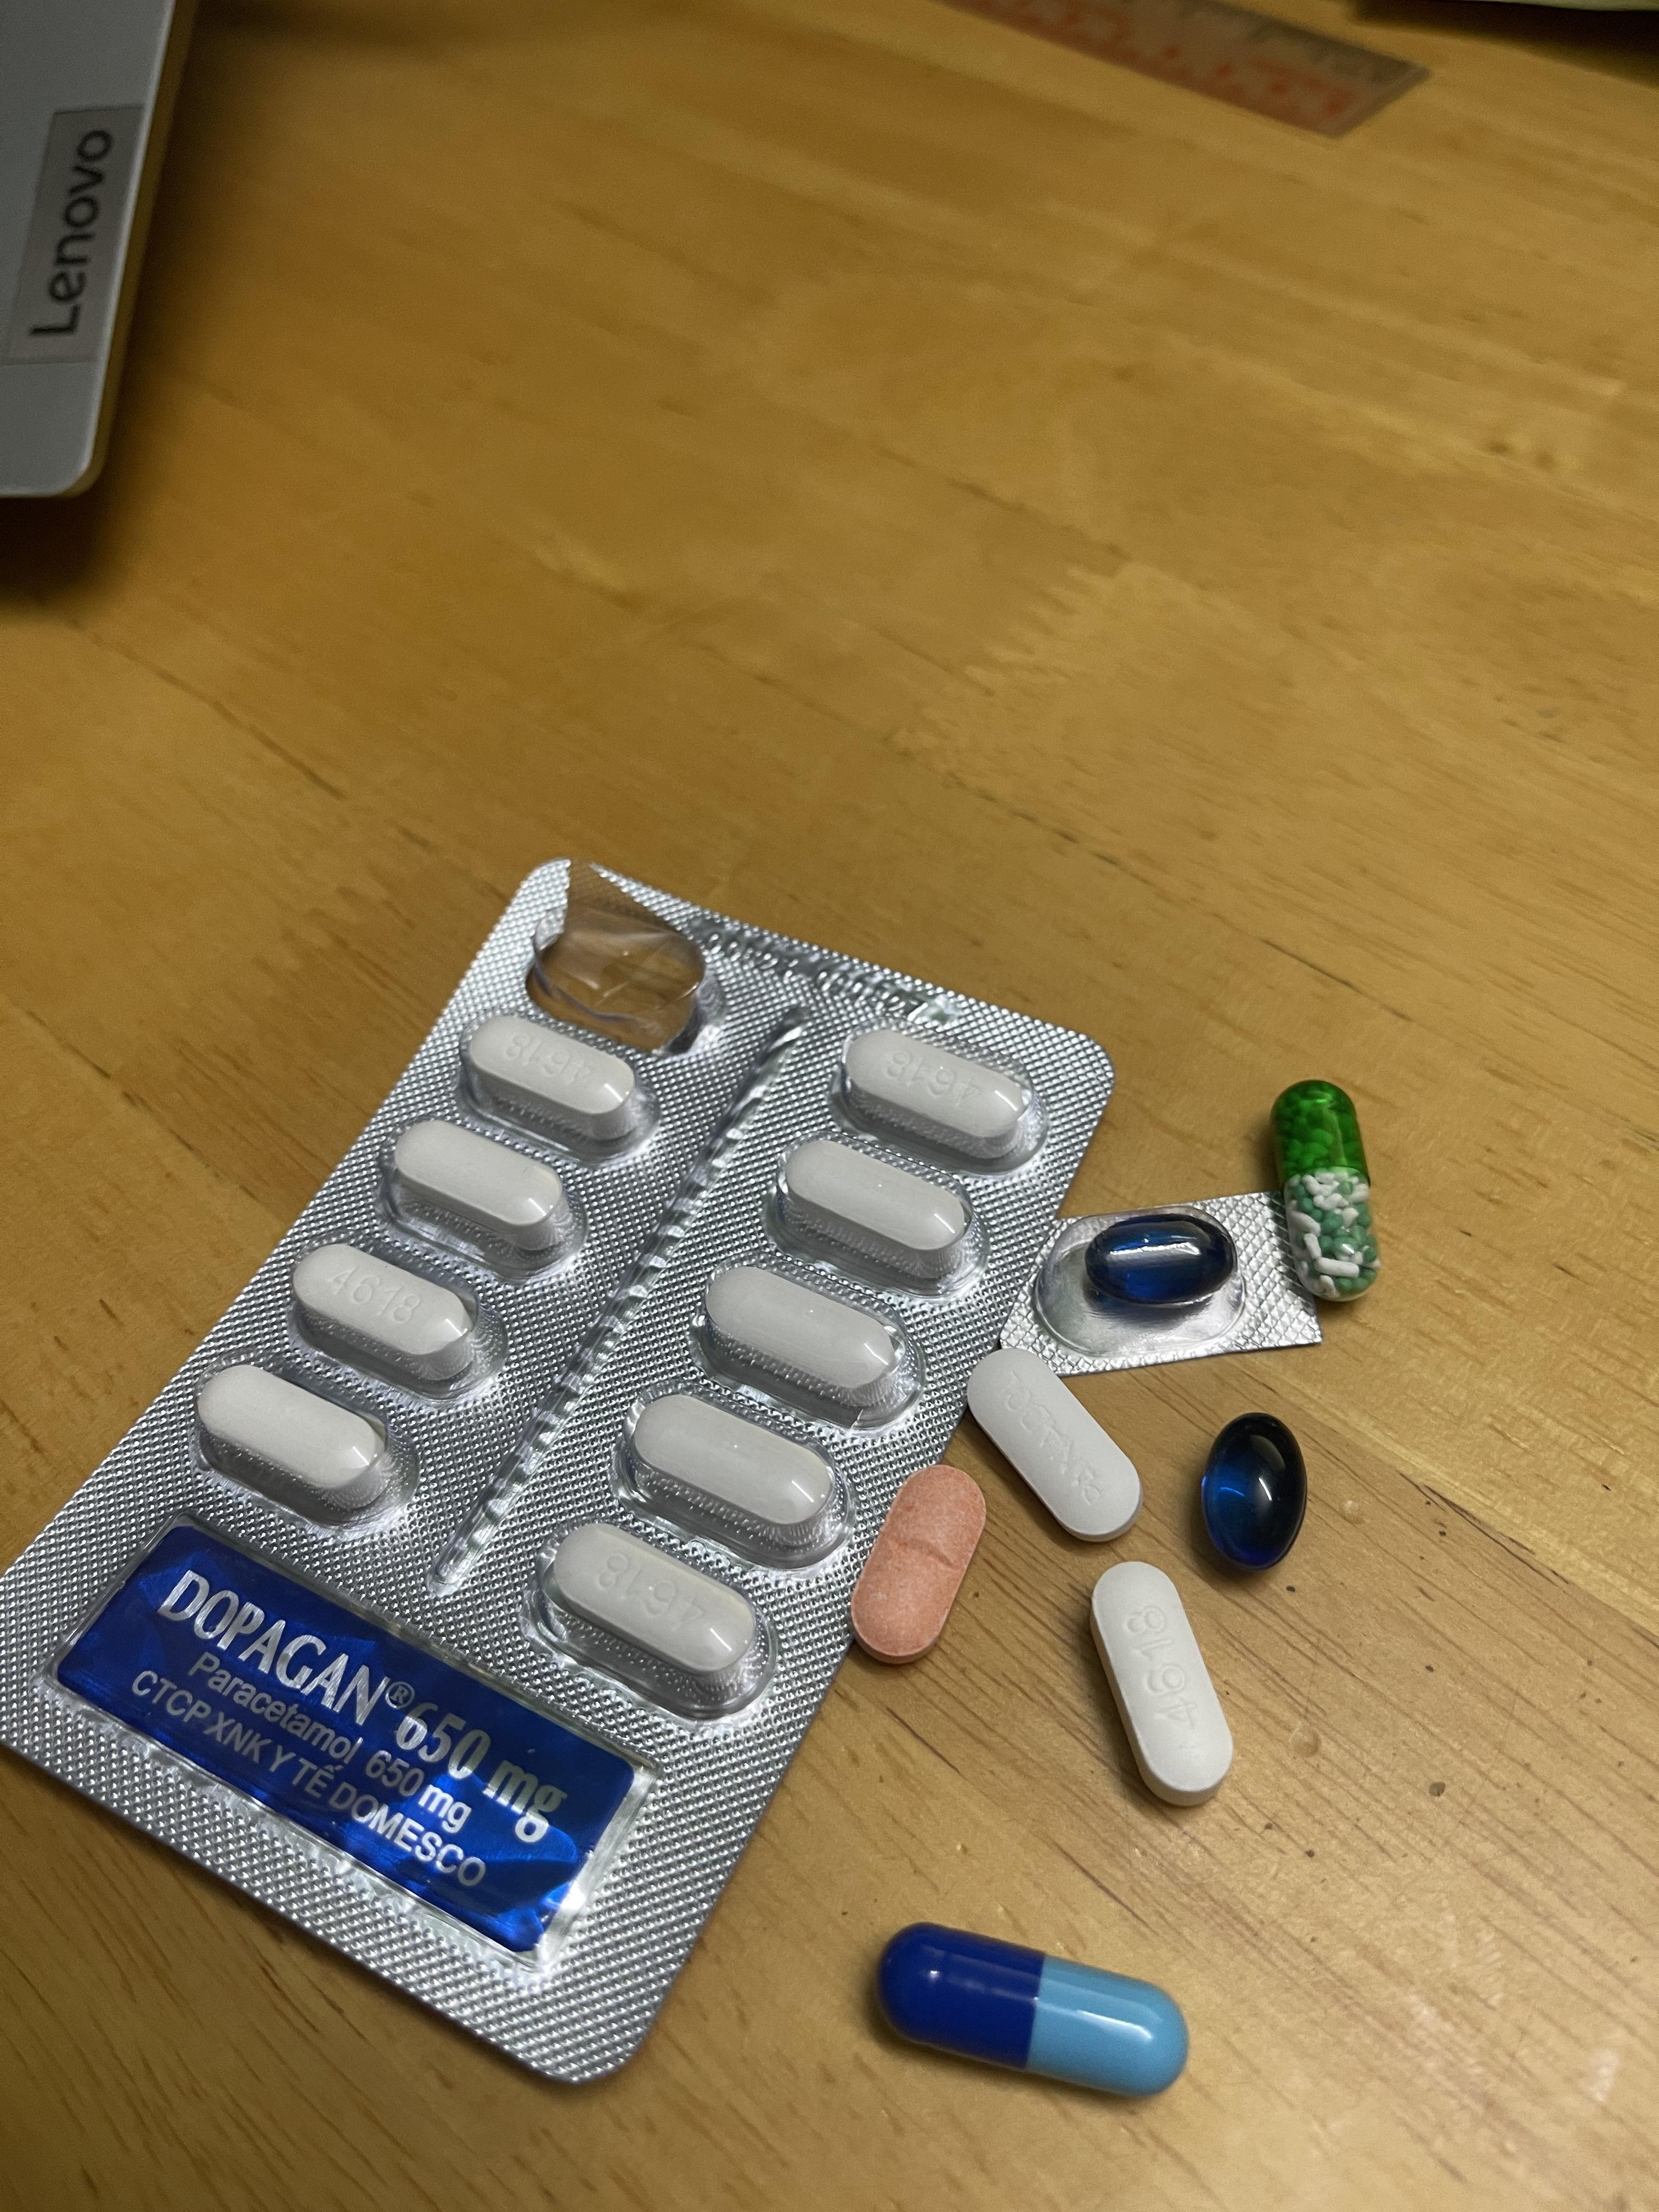Lincomyxin_500mg: (1201, 1413, 1307, 1569), (1082, 1216, 1229, 1312)
Loratadine_10mg: (847, 1463, 988, 1660)
Paracetamol_350mg: (965, 1345, 1140, 1545)
Paracetamol_500mg: (535, 1515, 767, 1717), (620, 1390, 852, 1566), (197, 1364, 401, 1529), (1089, 1568, 1230, 1796), (289, 1244, 486, 1399), (702, 1263, 903, 1409), (387, 1113, 575, 1268), (465, 1014, 652, 1157), (843, 1026, 1035, 1160), (784, 1139, 972, 1275)
Paracetamol_650mg: (1276, 1085, 1378, 1299)
pill: (884, 1933, 1178, 2094)
